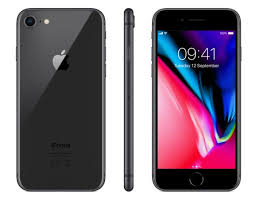iphone: (14, 6, 106, 191)
iphone8: (147, 5, 244, 193), (11, 5, 108, 193)
